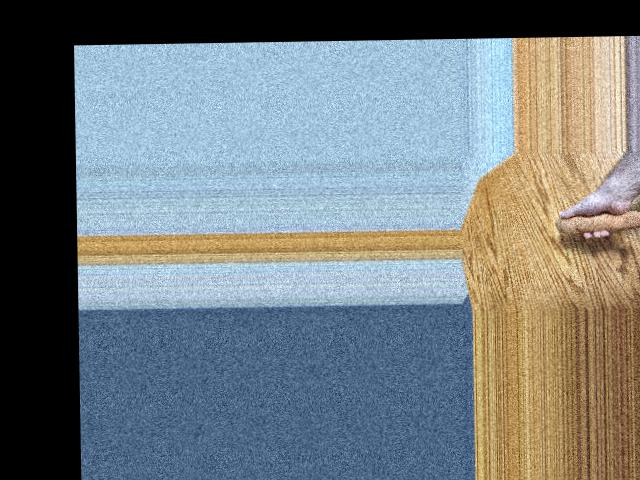sweet_potato: (548, 204, 640, 238)
